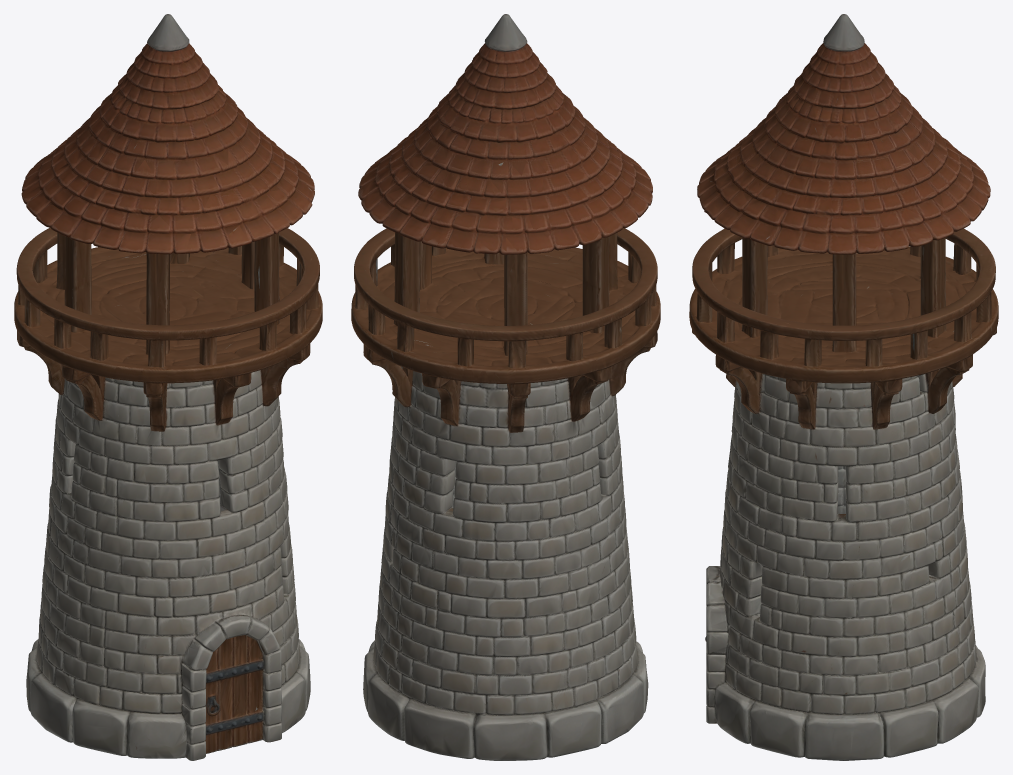
File: OakHillWatchtower_300k.glb
3 renders of one model, left to right at view 1: azimuth 30°, elevation 25°; view 2: azimuth 150°, elevation 25°; view 3: azimuth 270°, elevation 25°, orthographic.
Parts seen in each view (by area): view 1: Mesh_0; view 2: Mesh_0; view 3: Mesh_0.
Boxes of the visible parts, x1,y1,x2,y2 form: Mesh_0: (14,14,322,760); Mesh_0: (351,14,660,760); Mesh_0: (689,14,998,760).
Size of the model in its own units: 0.7749 by 1.9 by 0.7763.
Materials: 1 (1 with a texture image).
